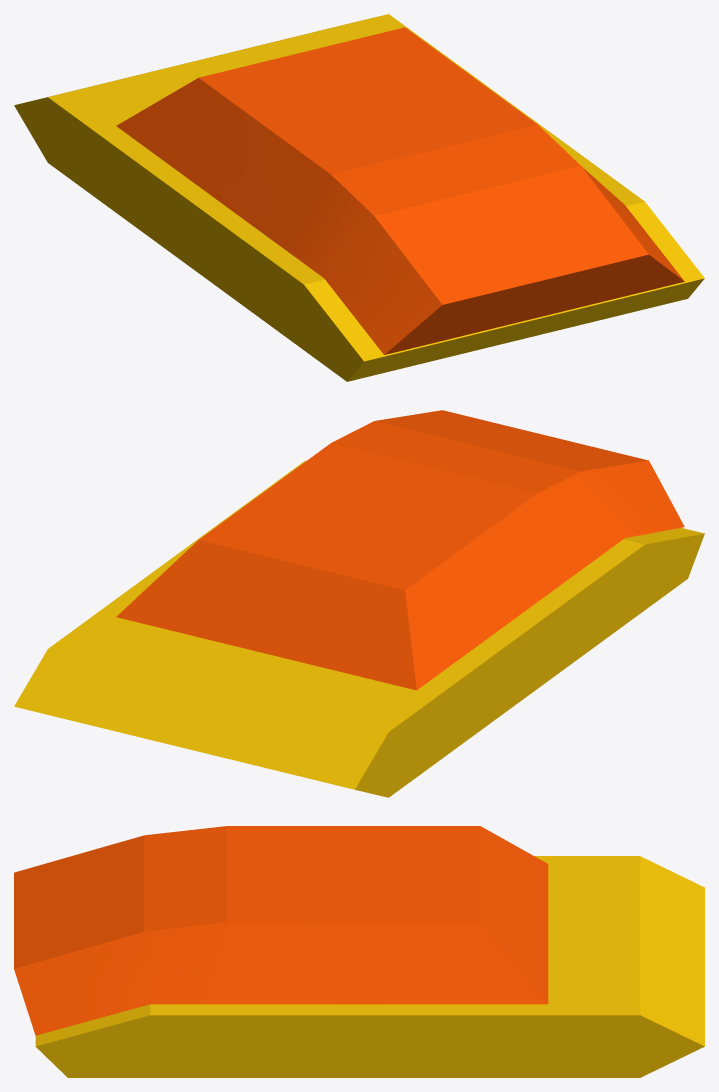
The model's file is MeshColliderMesh.FBX.
3 renders of one model, top to bottom at view 1: azimuth 30°, elevation 25°; view 2: azimuth 150°, elevation 25°; view 3: azimuth 270°, elevation 25°, orthographic. The views are drawn at different scales.
Parts seen in each view (by area): view 1: BadyPart2; view 2: BadyPart2; view 3: BadyPart2.
Part boxes in pixels (x1,y1,x2,y2): BadyPart2: [14, 14, 704, 381]; BadyPart2: [14, 410, 704, 797]; BadyPart2: [14, 826, 704, 1077].
Bounding box in the file's own units: 2.08 × 0.7564 × 3.81.
